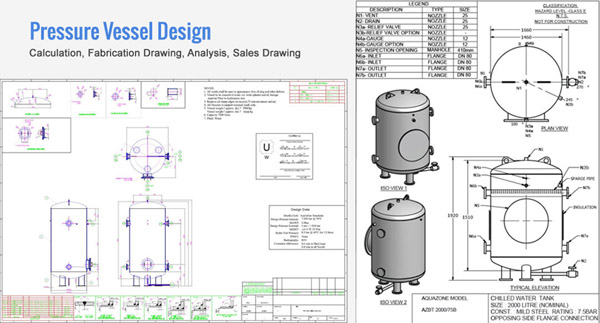nozzle: (474, 71, 501, 95), (514, 260, 534, 285), (401, 166, 418, 192), (376, 165, 395, 183)
